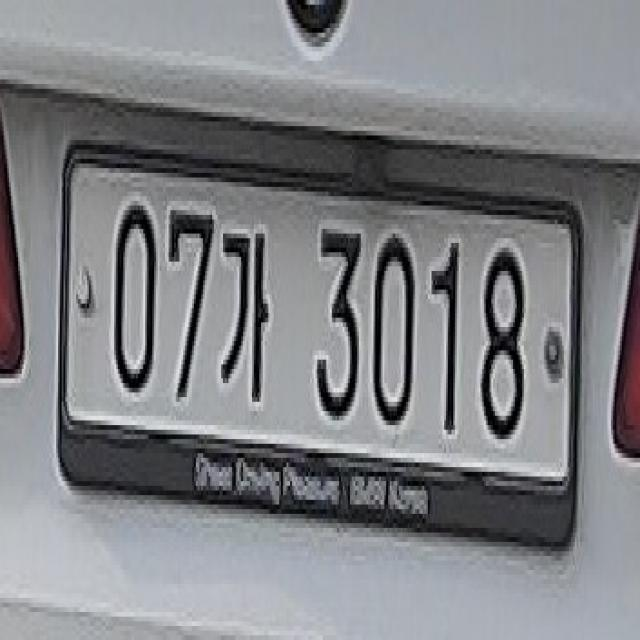0: (110, 180, 157, 416), (372, 214, 414, 436)
1: (427, 228, 463, 451)
3: (302, 197, 366, 432)
7: (160, 190, 214, 428)
8: (474, 223, 534, 458)
ga: (218, 212, 271, 408)
license_plate: (44, 128, 588, 574)
